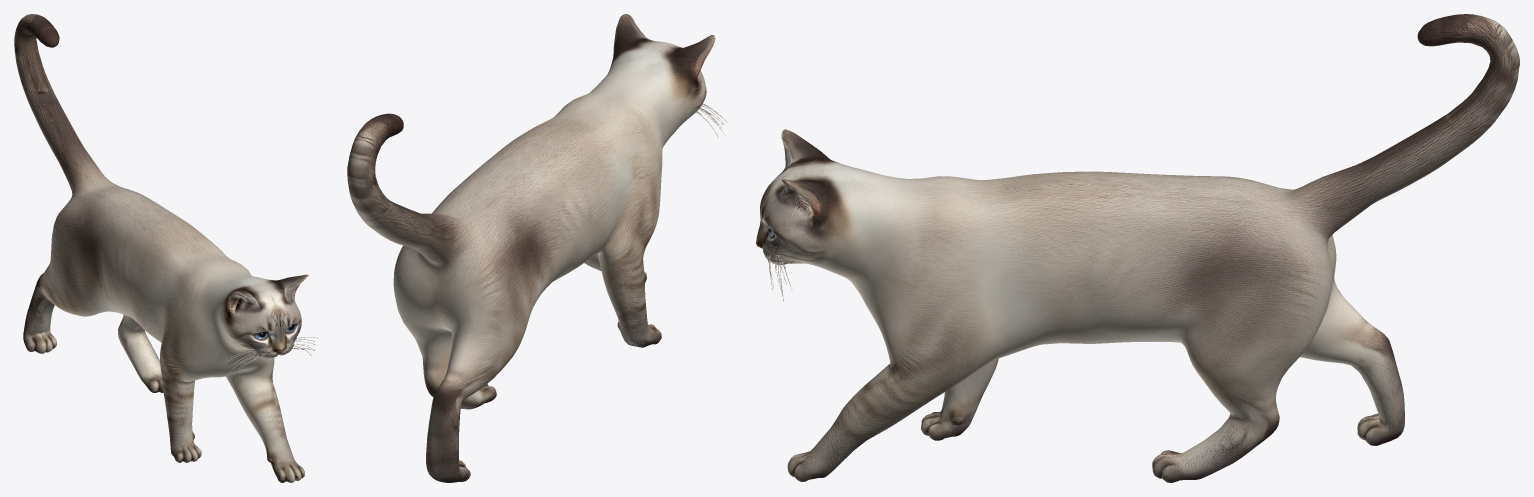
The model's file is kopicat-holo.glb.
The picture shows the model from 3 angles, left to right: view 1: azimuth 30°, elevation 25°; view 2: azimuth 150°, elevation 25°; view 3: azimuth 270°, elevation 25°; orthographic projection. The views are drawn at different scales.
Visible parts, largest first — view 1: mesh_0; view 2: mesh_0; view 3: mesh_0.
Boxes of the visible parts, x1,y1,x2,y2 form: mesh_0: [14, 14, 318, 482]; mesh_0: [347, 14, 727, 482]; mesh_0: [756, 14, 1519, 482].
Size of the model in its own units: 0.3243 by 0.9995 by 1.56.
Materials: 1 (1 with a texture image).
